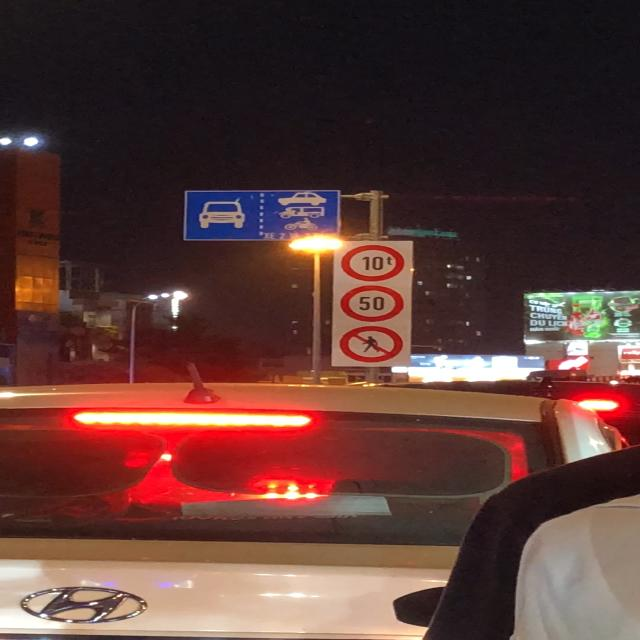Bien bao cam nguoi di bo: (338, 323, 406, 364)
Bien bao toc do toi da cho phep: (339, 284, 407, 323)
